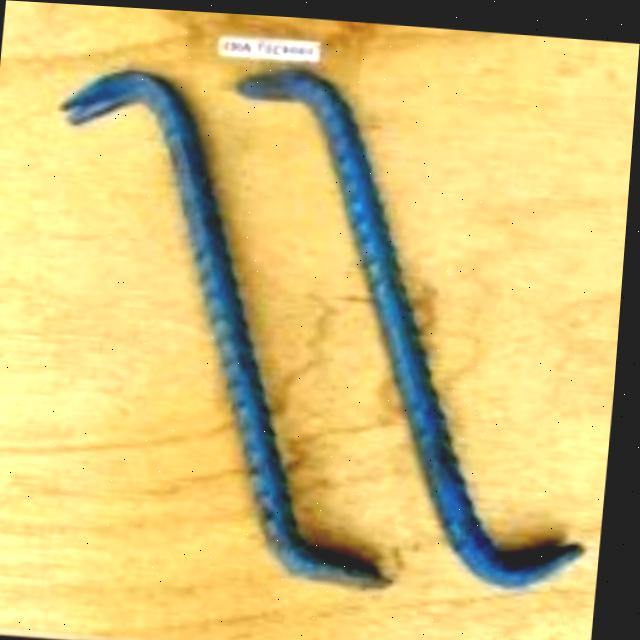crow bar: (233, 62, 596, 590), (63, 63, 397, 590)
